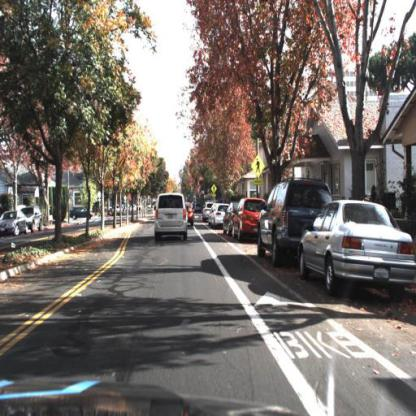car: (296, 195, 416, 303), (257, 176, 334, 270), (256, 175, 300, 263), (151, 191, 194, 244), (233, 196, 267, 242), (233, 200, 258, 242), (1, 210, 29, 238), (27, 203, 45, 235), (69, 202, 96, 223), (70, 206, 93, 224), (186, 197, 197, 228), (186, 202, 196, 231)
